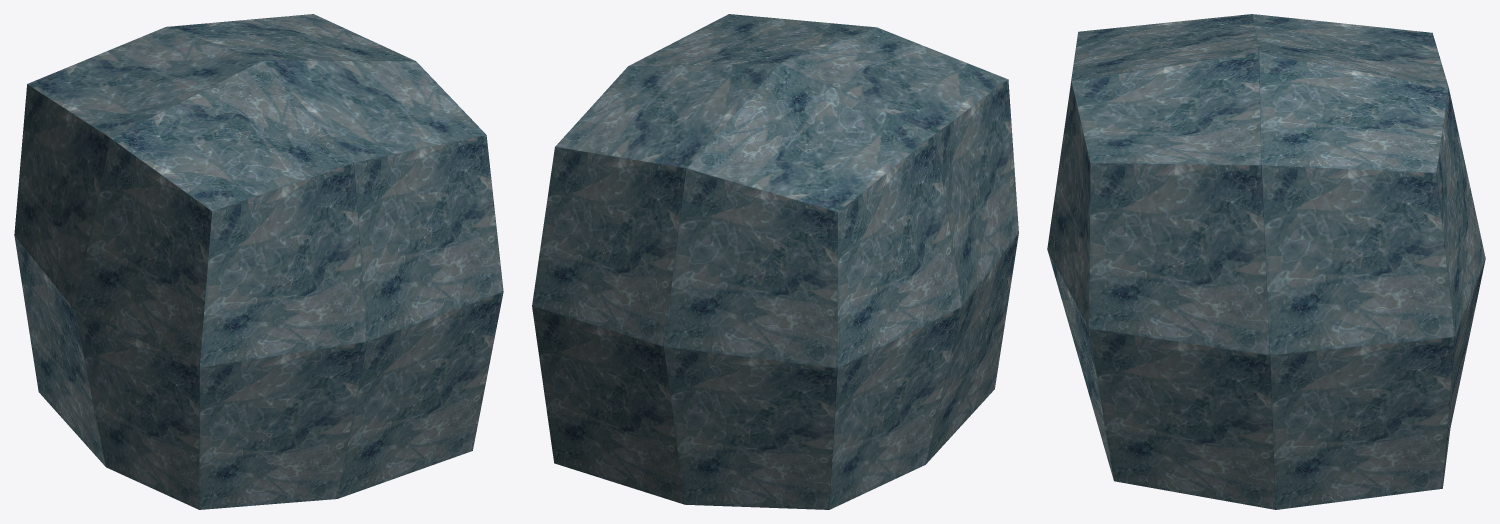
Rendered from mur1low.obj.
3 renders of one model, left to right at view 1: azimuth 30°, elevation 25°; view 2: azimuth 150°, elevation 25°; view 3: azimuth 270°, elevation 25°, orthographic. The views are drawn at different scales.
Visible parts, largest first — view 1: Cube_Cube.001; view 2: Cube_Cube.001; view 3: Cube_Cube.001.
Boxes of the visible parts, bbox=[...] form: Cube_Cube.001: bbox=[14, 14, 503, 509]; Cube_Cube.001: bbox=[532, 14, 1018, 509]; Cube_Cube.001: bbox=[1047, 14, 1485, 509].
Bounding box in the file's own units: 0.6586 × 0.6995 × 0.6719.
1 material, 1 textured.
